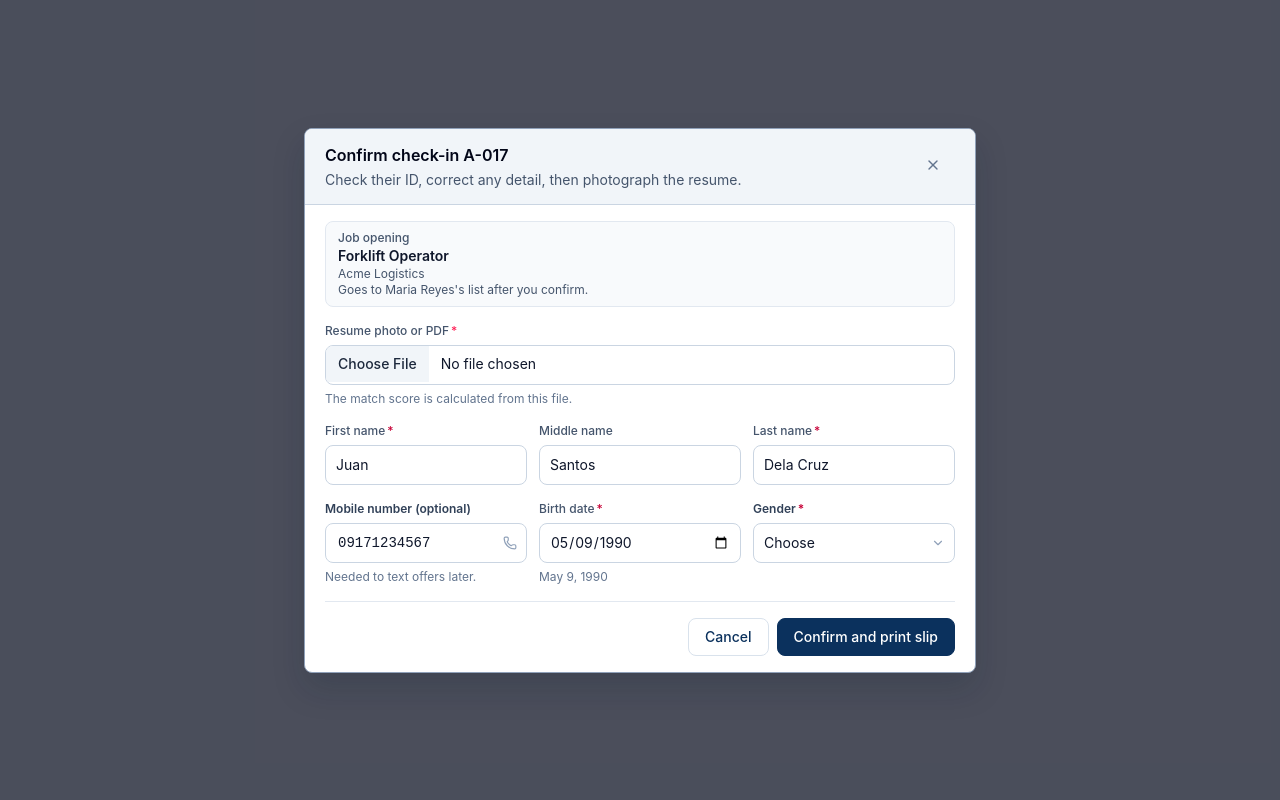
EncodeWalkInDialog in check-in mode: biodata and submit › does not confirm without the biodata file and says what to add
Select "Female" in the dropdown labelled "Gender*" at (854, 542), box [753,522,955,562]
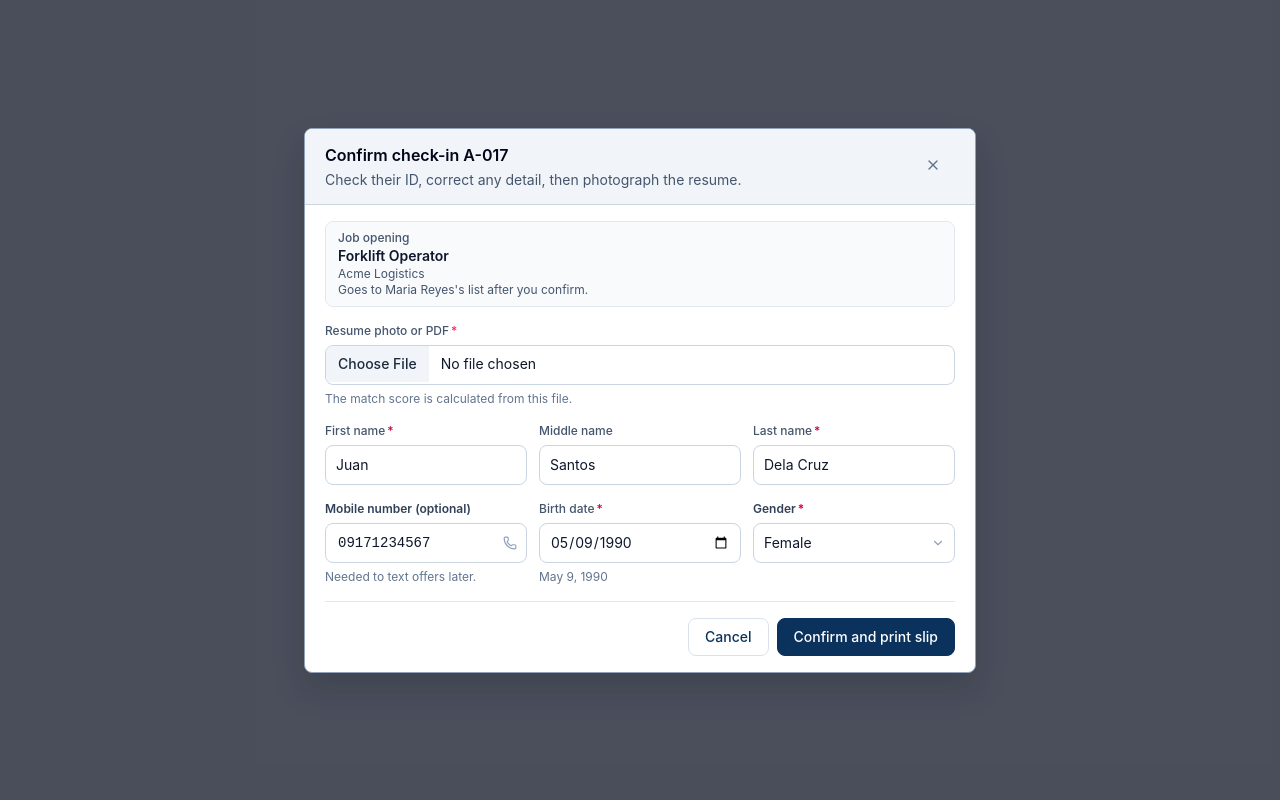
Click the button "Confirm and print slip" at (866, 636), box [777,618,955,656]
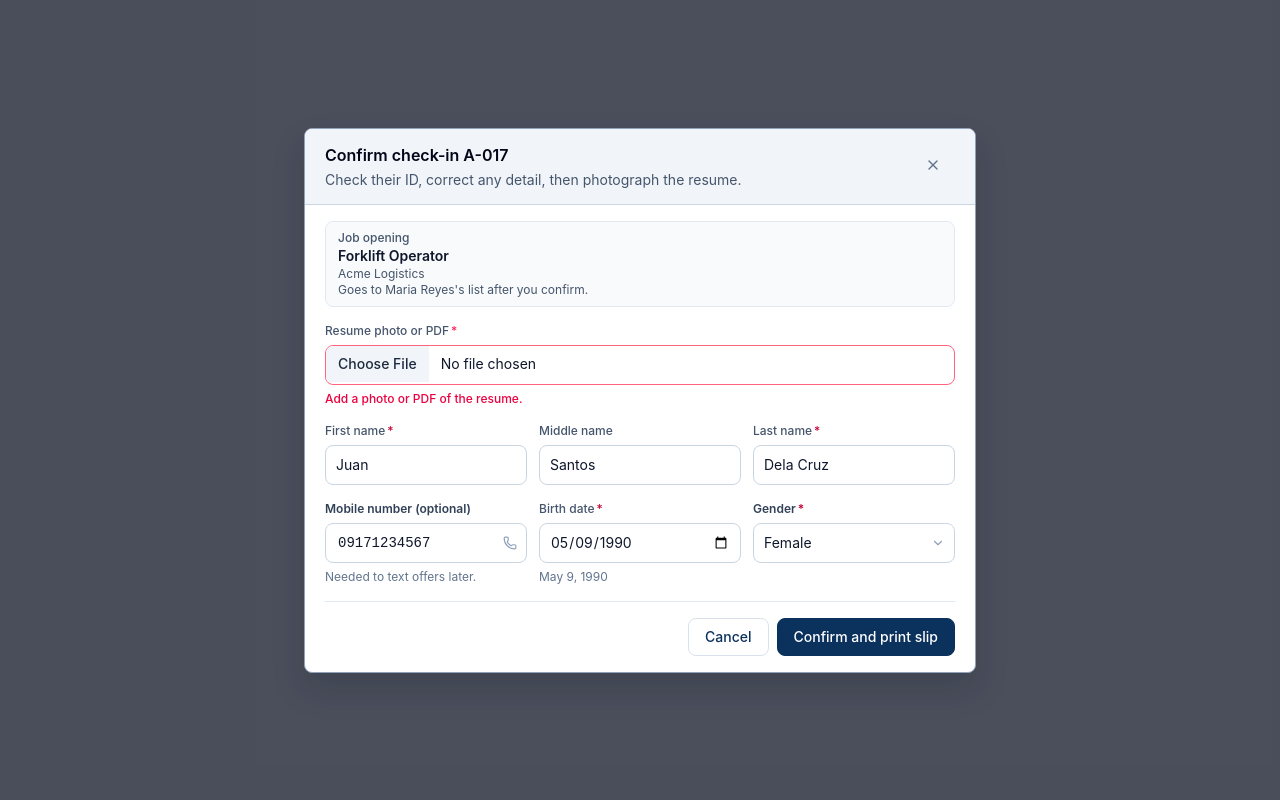
Result: the message reads "Add a photo or PDF of the resume." at [325,390,522,406]
